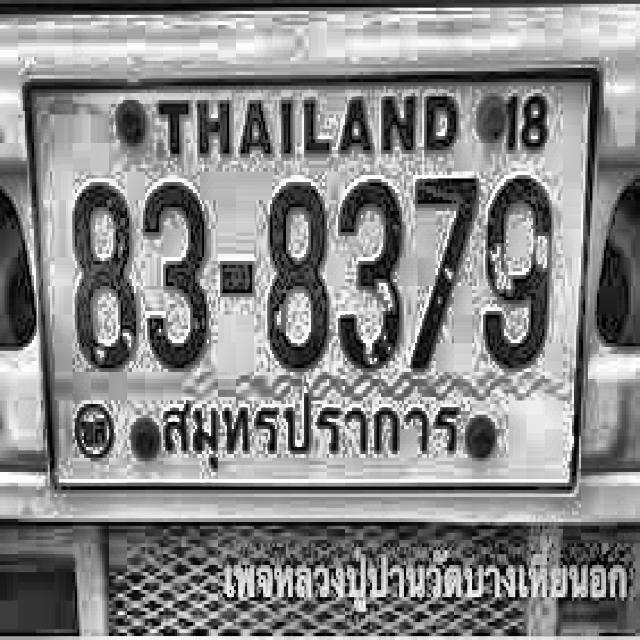license-plate: (14, 51, 598, 509)
